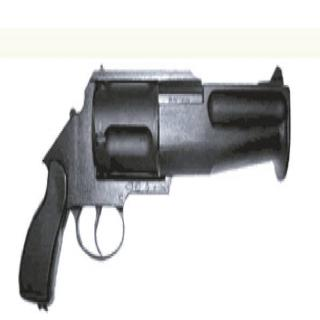gun: (13, 64, 290, 305)
